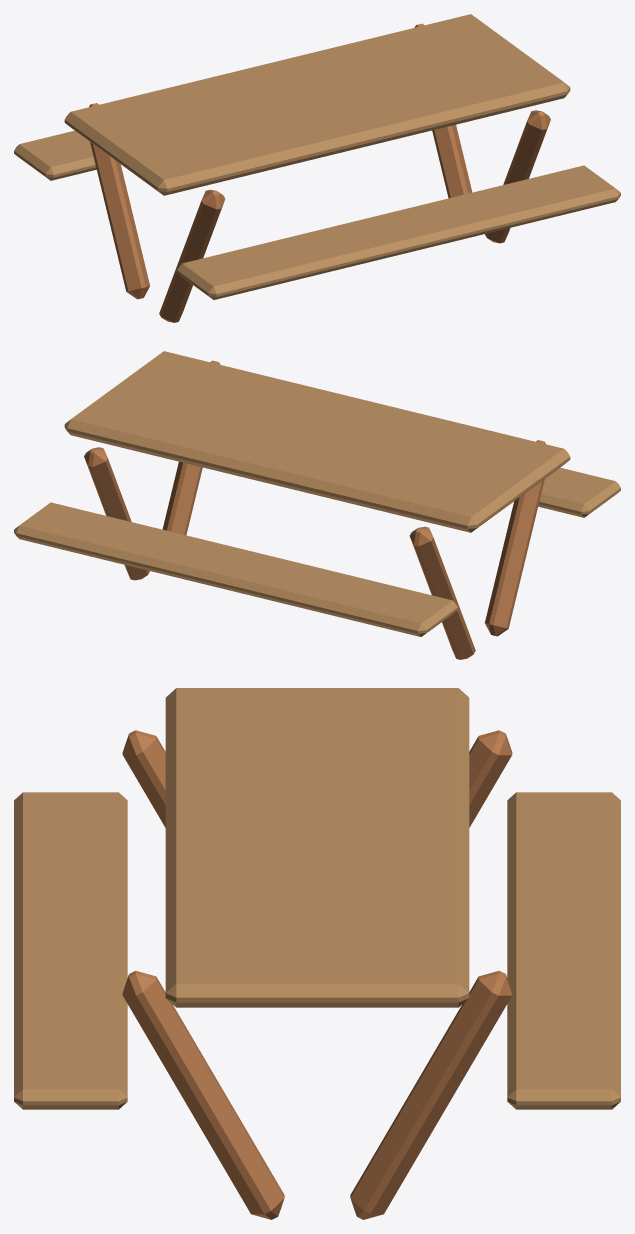
File: picnic_table.glb
3 renders of one model, top to bottom at view 1: azimuth 30°, elevation 25°; view 2: azimuth 150°, elevation 25°; view 3: azimuth 270°, elevation 25°, orthographic. The views are drawn at different scales.
Parts seen in each view (by area): view 1: body; view 2: body; view 3: body.
Part boxes in pixels (x1,y1,x2,y2): body: (14,14,620,322); body: (14,351,620,659); body: (14,688,620,1219).
Bounding box in the file's own units: 1.9 × 0.7629 × 1.6.
